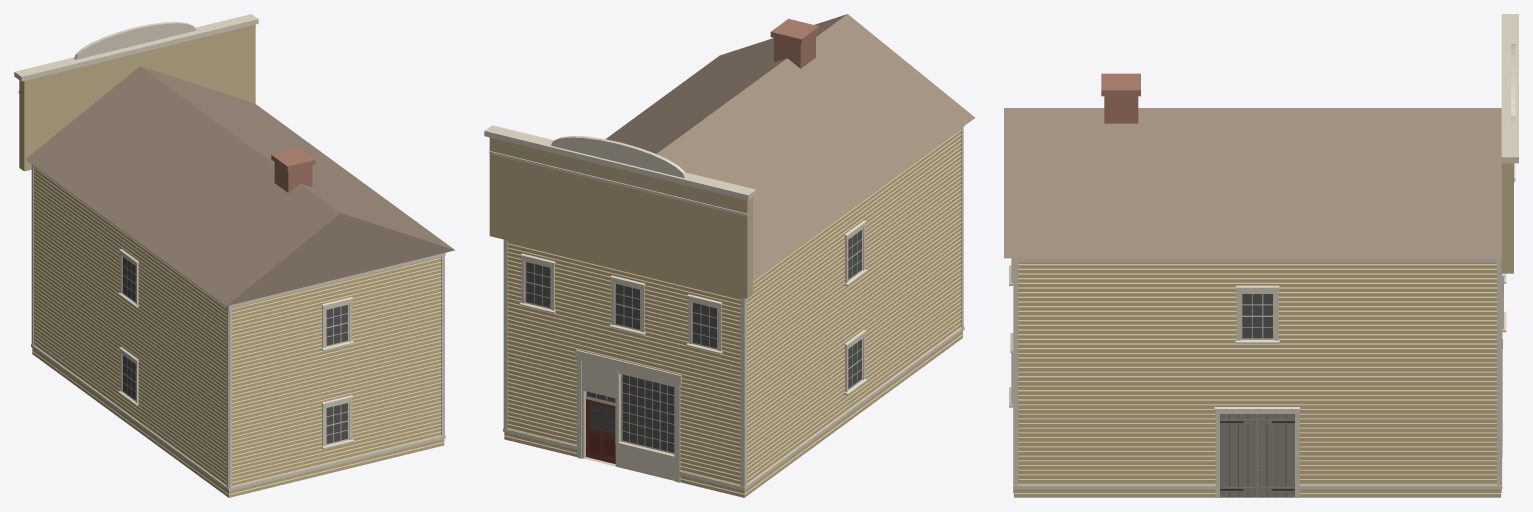
Rendered from recon_1835_gifford_c3_007__inferred_1835.glb.
The picture shows the model from 3 angles, left to right: view 1: azimuth 30°, elevation 25°; view 2: azimuth 150°, elevation 25°; view 3: azimuth 270°, elevation 25°; orthographic projection. The views are drawn at different scales.
Visible parts, largest first — view 1: recon_1835_gifford_c3_007__inferred_1835; view 2: recon_1835_gifford_c3_007__inferred_1835; view 3: recon_1835_gifford_c3_007__inferred_1835.
Part boxes in pixels (x1=…): recon_1835_gifford_c3_007__inferred_1835: x1=14, y1=14, x2=454, y2=497; recon_1835_gifford_c3_007__inferred_1835: x1=484, y1=14, x2=975, y2=497; recon_1835_gifford_c3_007__inferred_1835: x1=1004, y1=14, x2=1518, y2=497.
Size of the model in its own units: 8.36 by 9.98 by 12.69.
